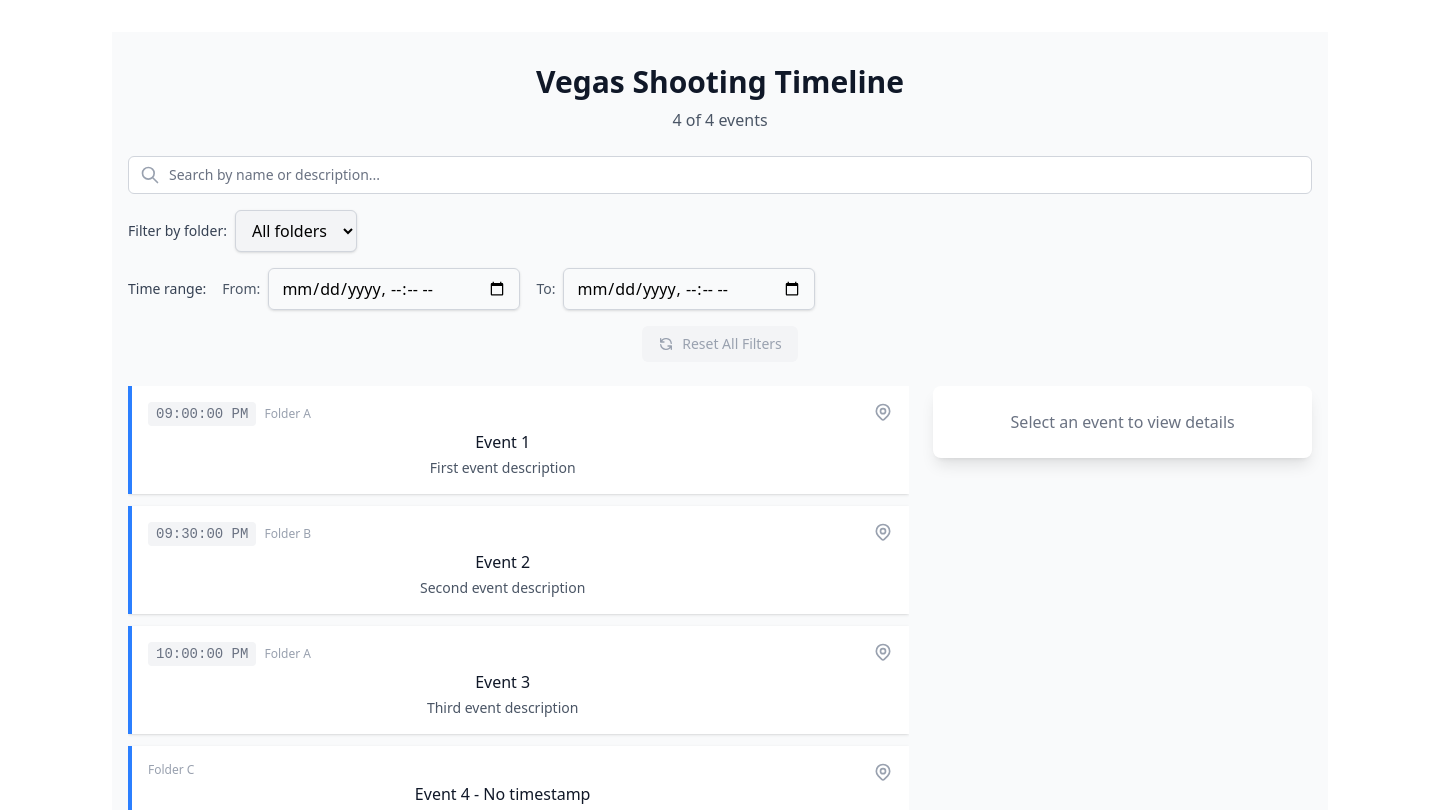
Test case: Timeline - Filter Reset Integration › clears search filter when reset button is clicked
The width and height of the screenshot is (1440, 810).
Expected: the heading "Event 1" is shown, [475,431,530,453]
# Apply search filter
In the field with placeholder "Search by name or description...": (720, 175) [128,156,1312,194], type "Second"
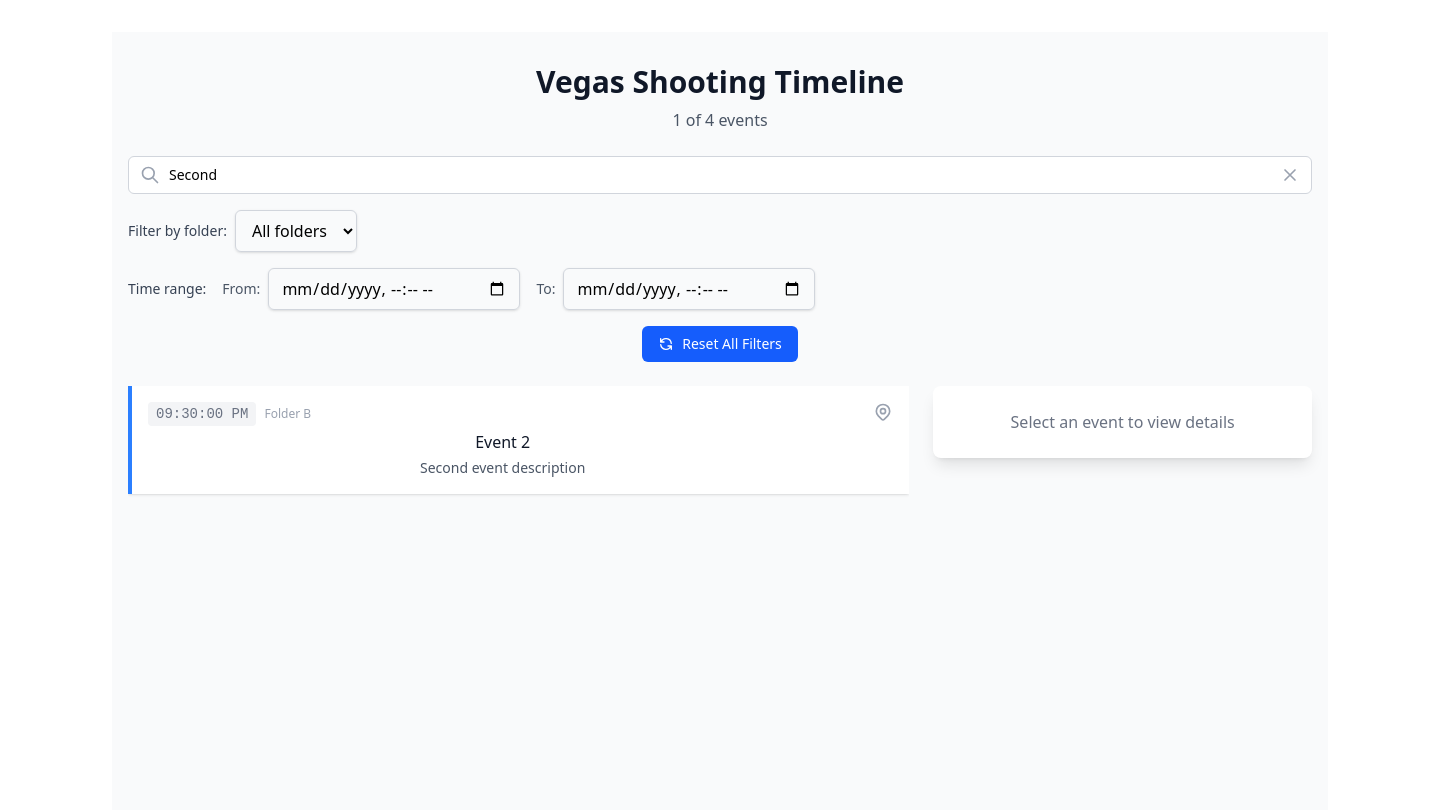
# Click reset button
Click the button "Reset All Filters": (720, 344) [642,326,798,362]
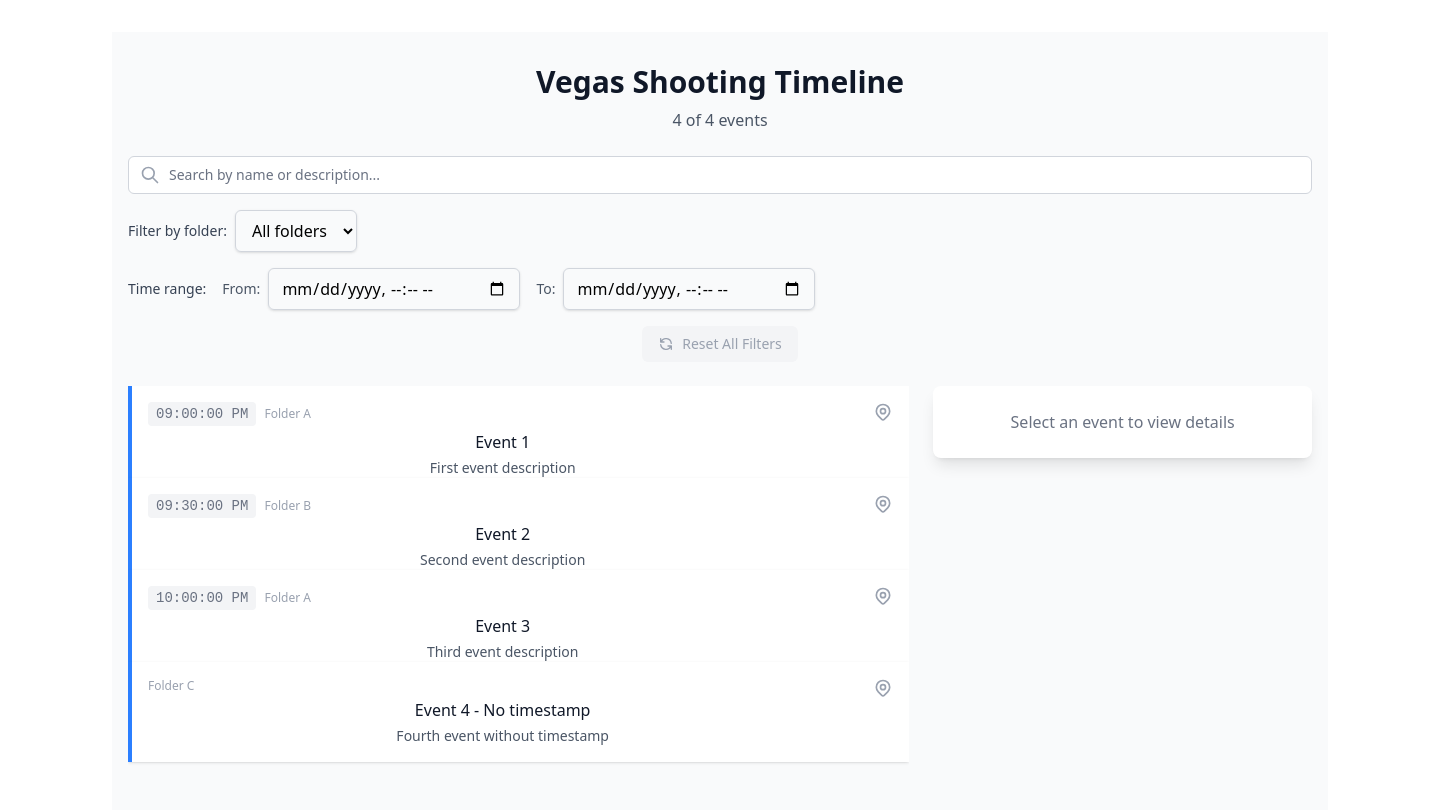
Expected: the text "4 of 4 events" is shown, [672,109,768,131]
